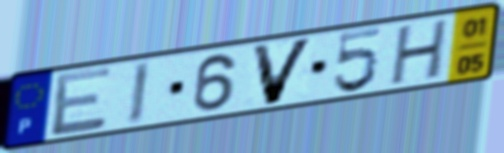5: (331, 24, 384, 96)
6: (192, 50, 240, 114)
E: (48, 64, 114, 140)
H: (387, 16, 452, 89)
I: (125, 59, 154, 128)
V: (248, 35, 318, 108)
